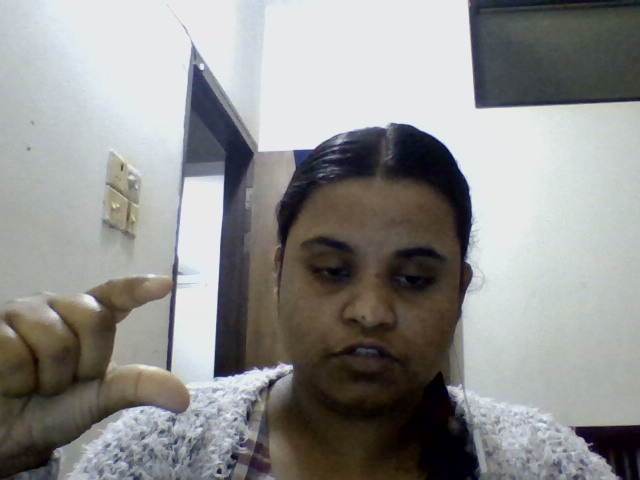No: (1, 247, 234, 444)
